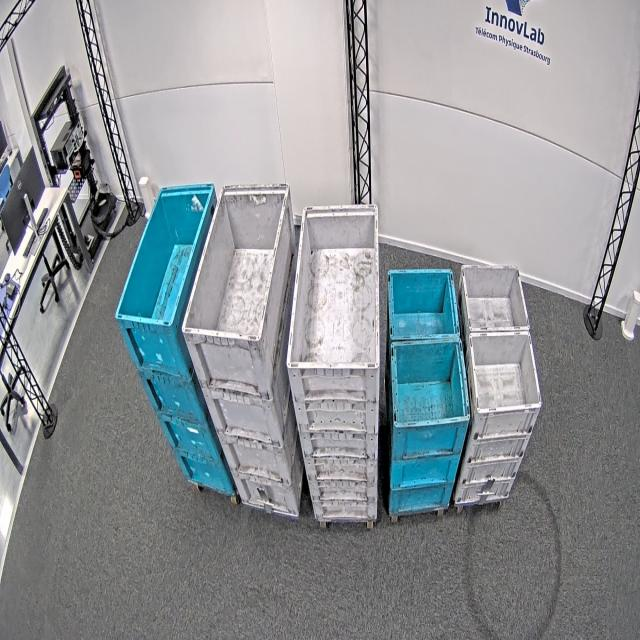Roll3G: (286, 204, 380, 370)
Roll4G: (180, 181, 292, 344)
Roll8G: (460, 264, 542, 416)
RollB4: (115, 182, 216, 332)
RollB8: (387, 268, 471, 430)
